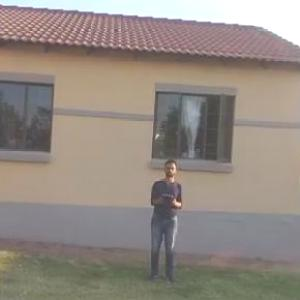follow: (142, 151, 185, 288)
